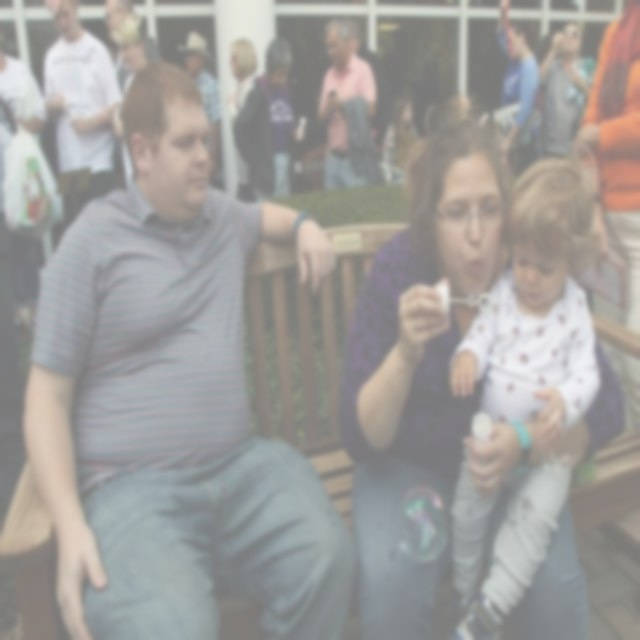pessoa: (19, 56, 360, 639), (340, 109, 626, 639), (448, 154, 602, 639), (42, 0, 124, 228), (0, 23, 49, 330), (230, 35, 308, 204), (104, 0, 163, 191), (318, 16, 378, 193), (103, 12, 149, 190), (338, 16, 394, 158), (538, 20, 592, 158), (178, 30, 223, 188), (224, 36, 260, 205), (382, 91, 420, 180), (532, 31, 555, 161), (444, 87, 490, 130)
